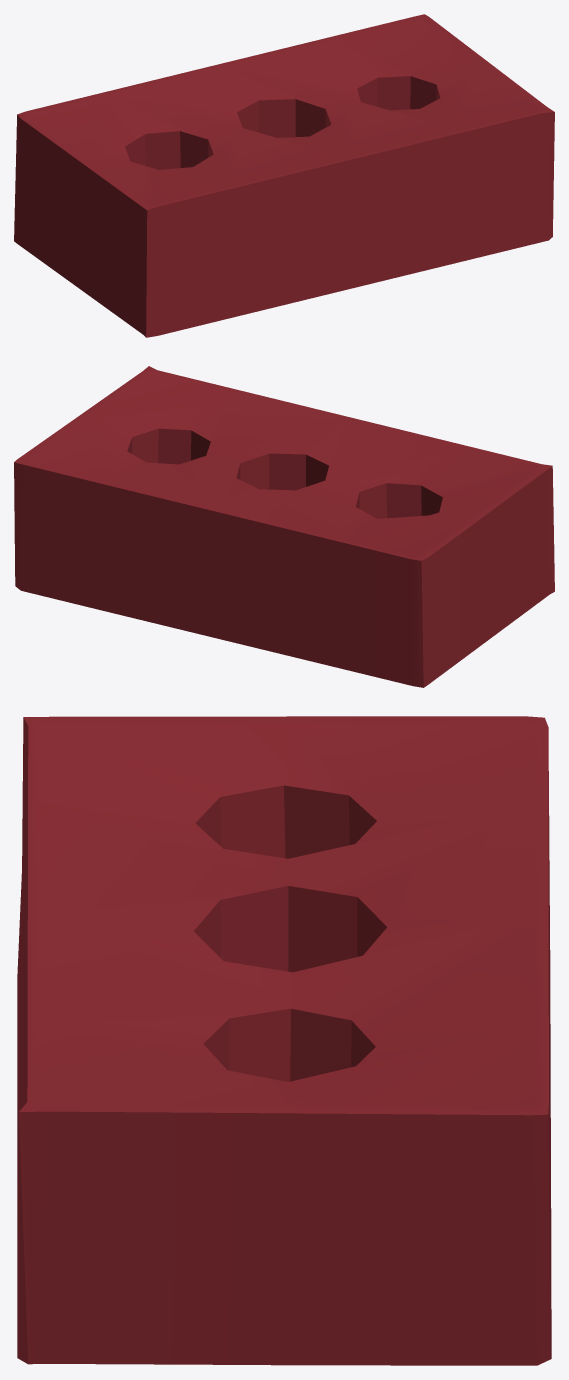
Rendered from Brick.fbx.
The picture shows the model from 3 angles, top to bottom: view 1: azimuth 30°, elevation 25°; view 2: azimuth 150°, elevation 25°; view 3: azimuth 270°, elevation 25°; orthographic projection. The views are drawn at different scales.
Visible parts, largest first — view 1: pCube1; view 2: pCube1; view 3: pCube1.
Part boxes in pixels (<box>): pCube1: <box>14,14,554,337</box>; pCube1: <box>14,366,554,687</box>; pCube1: <box>17,716,551,1365</box>.
Bounding box in the file's own units: 21.92 × 6.58 × 12.36.
